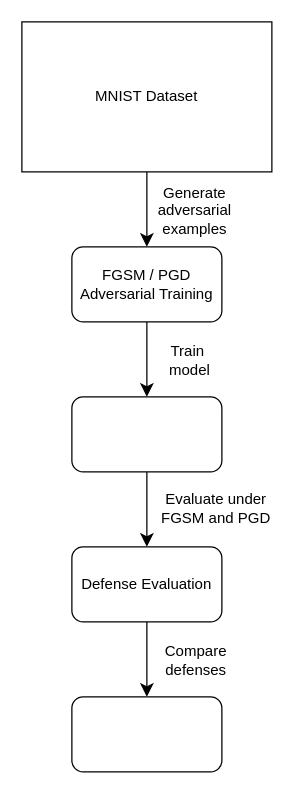
This 294x794 diagram has some shape labels left out. Here are the shapes that lost their labels. From the top down, the centre of each, then its label:
the point at 146,434: Defended CNN
the point at 146,734: Robustness Analysis
